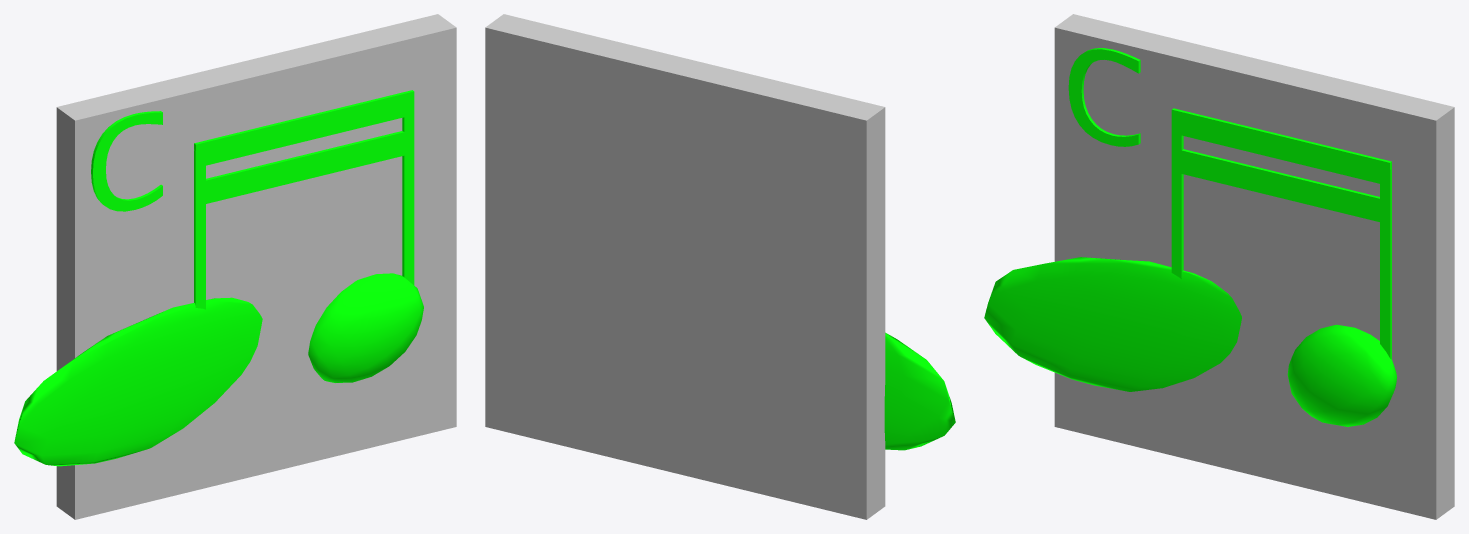
File: cnote.fbx
3 renders of one model, left to right at view 1: azimuth 30°, elevation 25°; view 2: azimuth 150°, elevation 25°; view 3: azimuth 330°, elevation 25°, orthographic.
Visible parts, largest first — view 1: pasted__Button, pasted__pSphere1, pasted__pasted__pSphere1, pasted__pasted__pasted__pCube2, pasted__pasted__pasted__pasted__pCube2, pasted__typeMesh1, pasted__pasted__pCube2, pasted__pCube2; view 2: pasted__Button, pasted__pSphere1; view 3: pasted__Button, pasted__pSphere1, pasted__pasted__pSphere1, pasted__pasted__pasted__pCube2, pasted__pasted__pasted__pasted__pCube2, pasted__typeMesh1, pasted__pCube2, pasted__pasted__pCube2.
Boxes of the visible parts, x1=… form: pasted__Button: x1=56, y1=14, x2=456, y2=519; pasted__pSphere1: x1=14, y1=297, x2=262, y2=466; pasted__pasted__pSphere1: x1=308, y1=273, x2=423, y2=382; pasted__pasted__pasted__pCube2: x1=194, y1=90, x2=414, y2=167; pasted__pasted__pasted__pasted__pCube2: x1=196, y1=130, x2=414, y2=206; pasted__typeMesh1: x1=91, y1=111, x2=162, y2=211; pasted__pasted__pCube2: x1=402, y1=98, x2=414, y2=284; pasted__pCube2: x1=194, y1=149, x2=205, y2=309; pasted__Button: x1=485, y1=14, x2=885, y2=519; pasted__pSphere1: x1=884, y1=332, x2=955, y2=450; pasted__Button: x1=1054, y1=14, x2=1454, y2=519; pasted__pSphere1: x1=984, y1=257, x2=1241, y2=391; pasted__pasted__pSphere1: x1=1287, y1=324, x2=1396, y2=426; pasted__pasted__pasted__pCube2: x1=1171, y1=108, x2=1391, y2=185; pasted__pasted__pasted__pasted__pCube2: x1=1172, y1=149, x2=1389, y2=224; pasted__typeMesh1: x1=1068, y1=48, x2=1140, y2=146; pasted__pCube2: x1=1171, y1=116, x2=1183, y2=278; pasted__pasted__pCube2: x1=1380, y1=168, x2=1391, y2=359.
Bounding box in the file's own units: 8.03 × 6.85 × 1.03.
